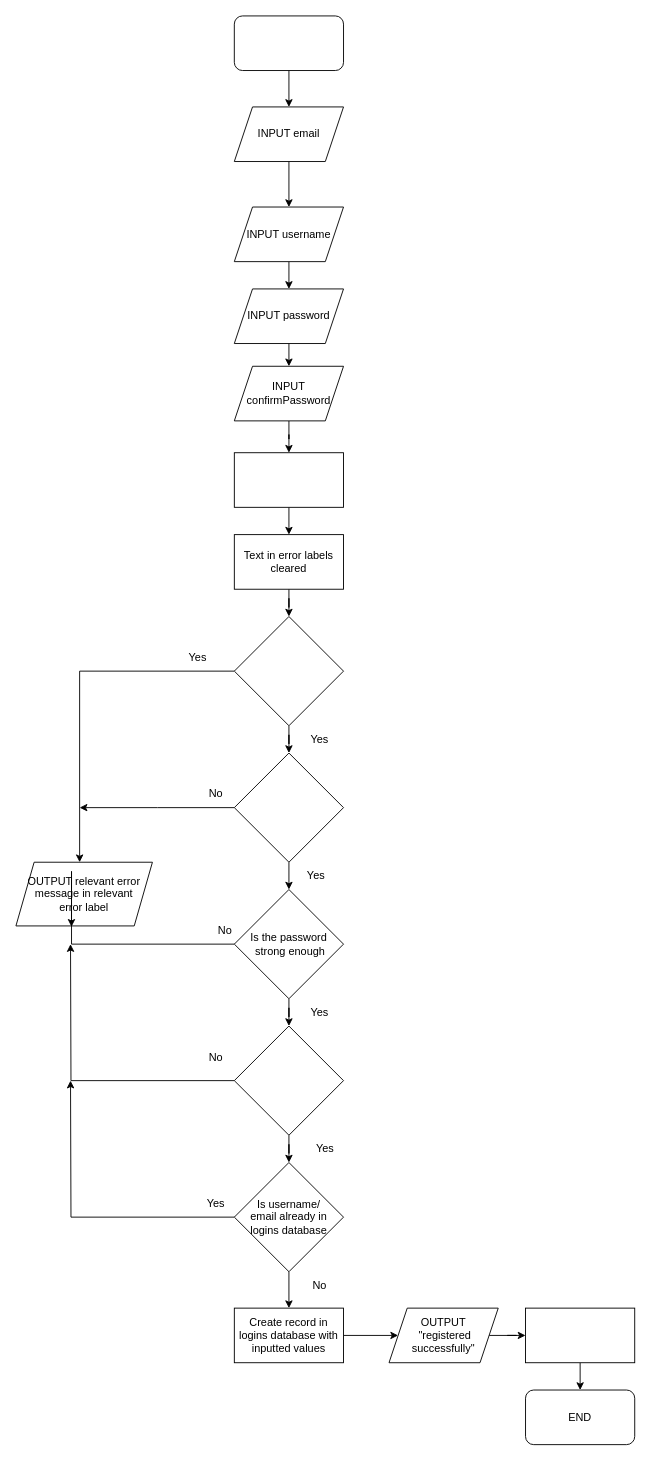
This 651x1461 diagram has some shape labels left out. The shapes that lost their labels are listed below. From the top down, each one's box as (x1, y1, x2, y2) in pixels, then its label:
(233, 15, 344, 71): START
(233, 452, 344, 507): Register button clicked
(233, 616, 344, 726): Are any of username/password/ email empty
(233, 752, 344, 862): Is email in the right format
(233, 1025, 344, 1135): Does confirmPassword match with password?
(525, 1307, 635, 1363): Proceed to main program using account just created
